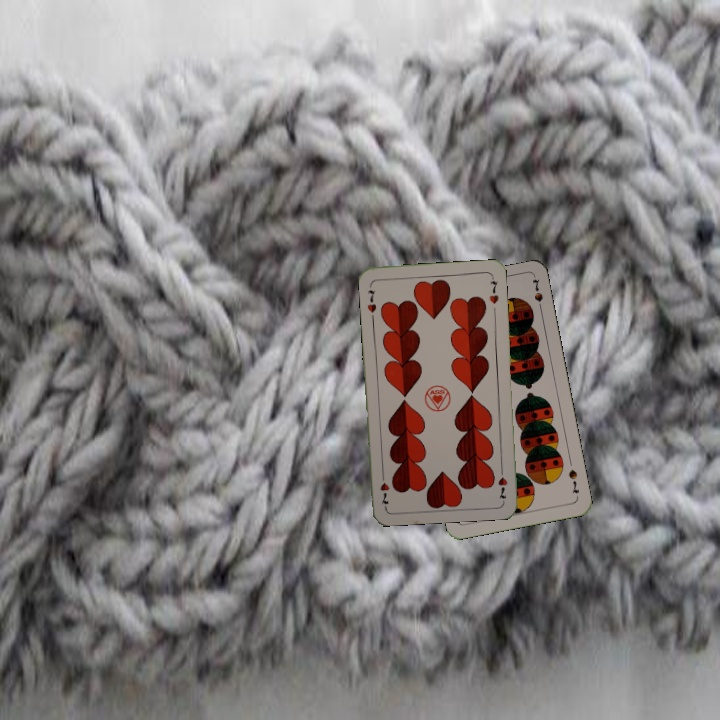H7: (494, 462, 510, 501), (363, 286, 379, 315)
S7: (564, 466, 582, 496)
